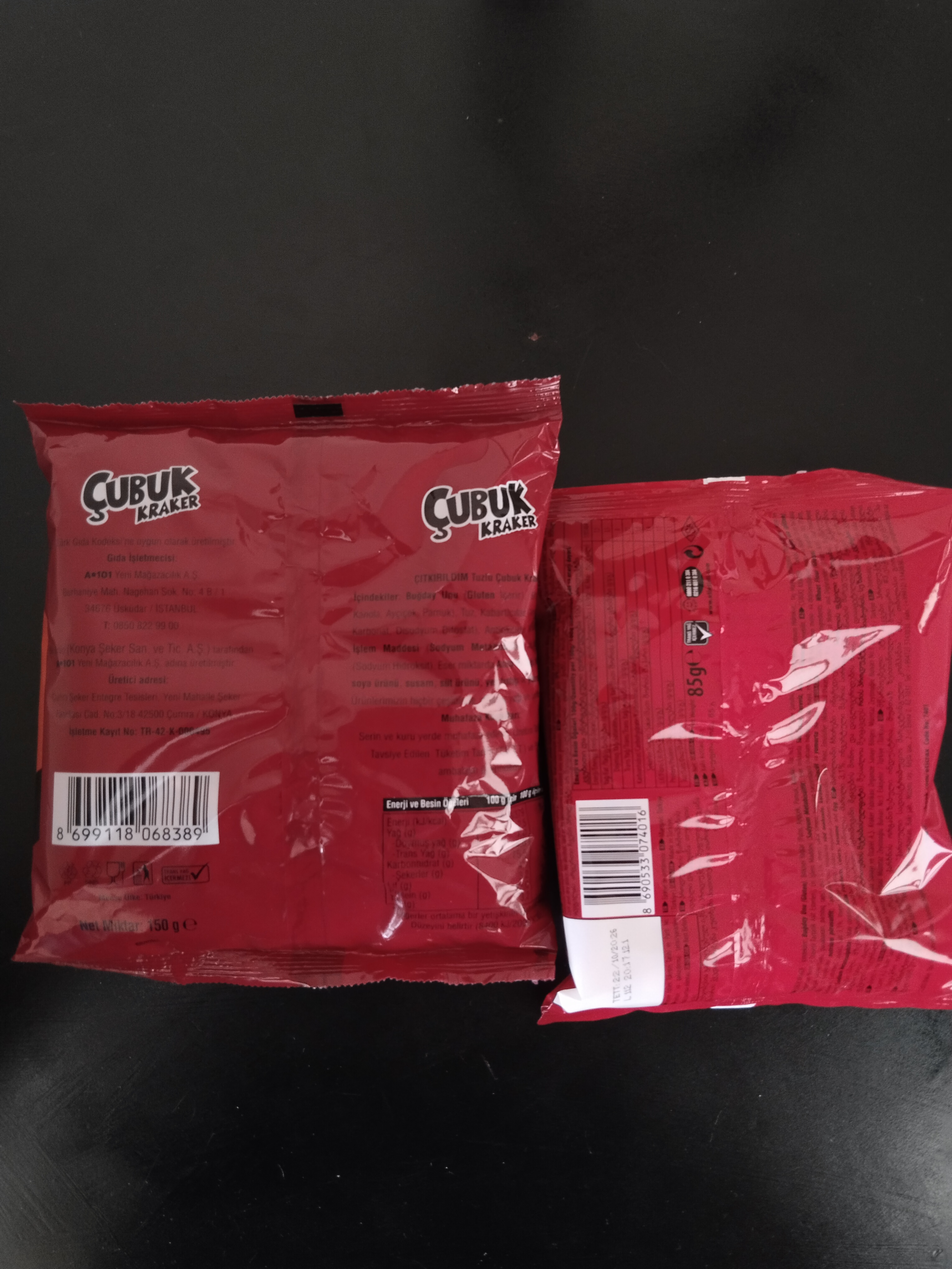citkirildim_cubuk_kraker: (16, 375, 560, 984)
eti_crax_cubuk_kraker: (534, 468, 951, 1017)
